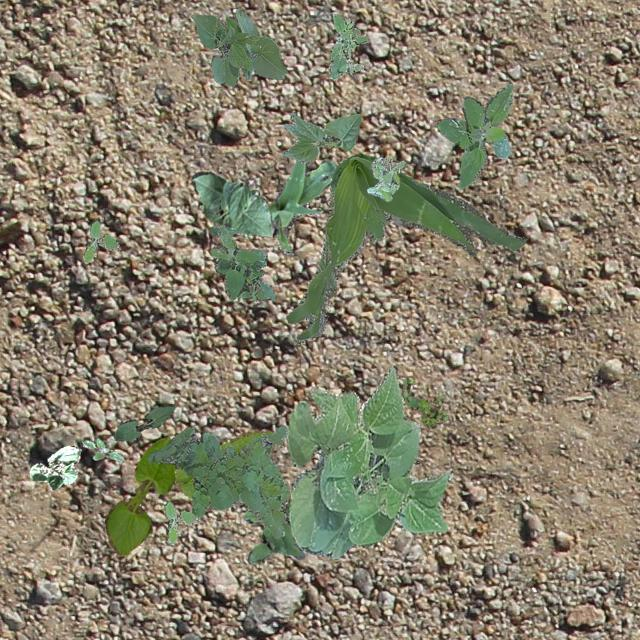crop: (286, 364, 452, 558), (210, 157, 336, 255), (104, 436, 174, 554), (190, 7, 286, 84), (174, 429, 272, 496), (190, 170, 278, 236), (282, 112, 361, 162), (29, 444, 80, 490), (112, 404, 174, 441)
weed: (286, 152, 526, 344), (146, 426, 288, 536), (436, 82, 512, 188), (208, 222, 274, 300), (242, 502, 304, 562), (328, 12, 370, 78), (400, 377, 448, 428), (366, 156, 404, 200), (82, 220, 120, 262), (164, 500, 198, 544), (82, 438, 124, 460)
